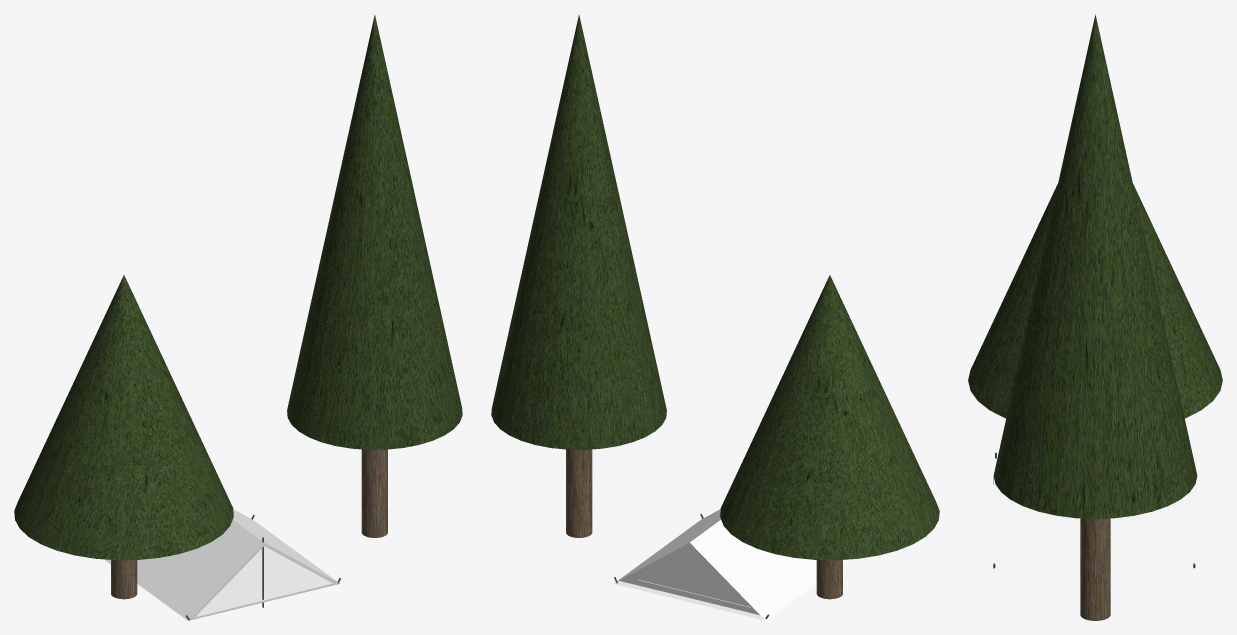
3 renders of one model, left to right at view 1: azimuth 30°, elevation 25°; view 2: azimuth 150°, elevation 25°; view 3: azimuth 270°, elevation 25°, orthographic. The views are drawn at different scales.
Parts seen in each view (by area): view 1: FOLIAGE 1, Plane, BARK 1; view 2: FOLIAGE 1, Plane, BARK 1; view 3: FOLIAGE 1, Plane, BARK 1.
Boxes of the visible parts, x1,y1,x2,y2 form: FOLIAGE 1: (14,14,462,560); Plane: (104,509,339,620); BARK 1: (111,449,387,599); FOLIAGE 1: (491,14,939,560); Plane: (614,509,849,620); BARK 1: (566,449,842,599); FOLIAGE 1: (968,14,1222,518); Plane: (993,458,1197,570); BARK 1: (1080,518,1110,620).
Bounding box in the file's own units: 11.08 × 13.15 × 5.
Materials: 4 (2 with a texture image).
